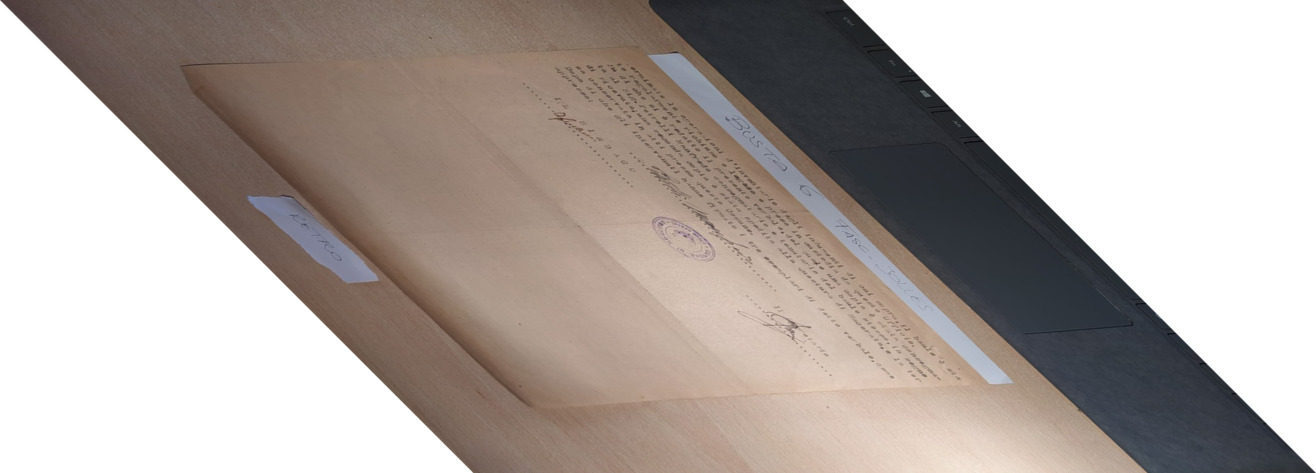stamp: (652, 216, 720, 267)
